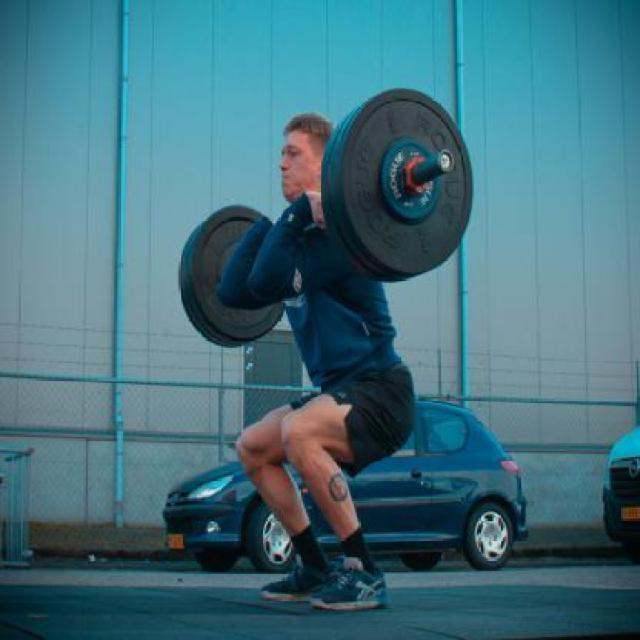barbell: (325, 88, 476, 277)
